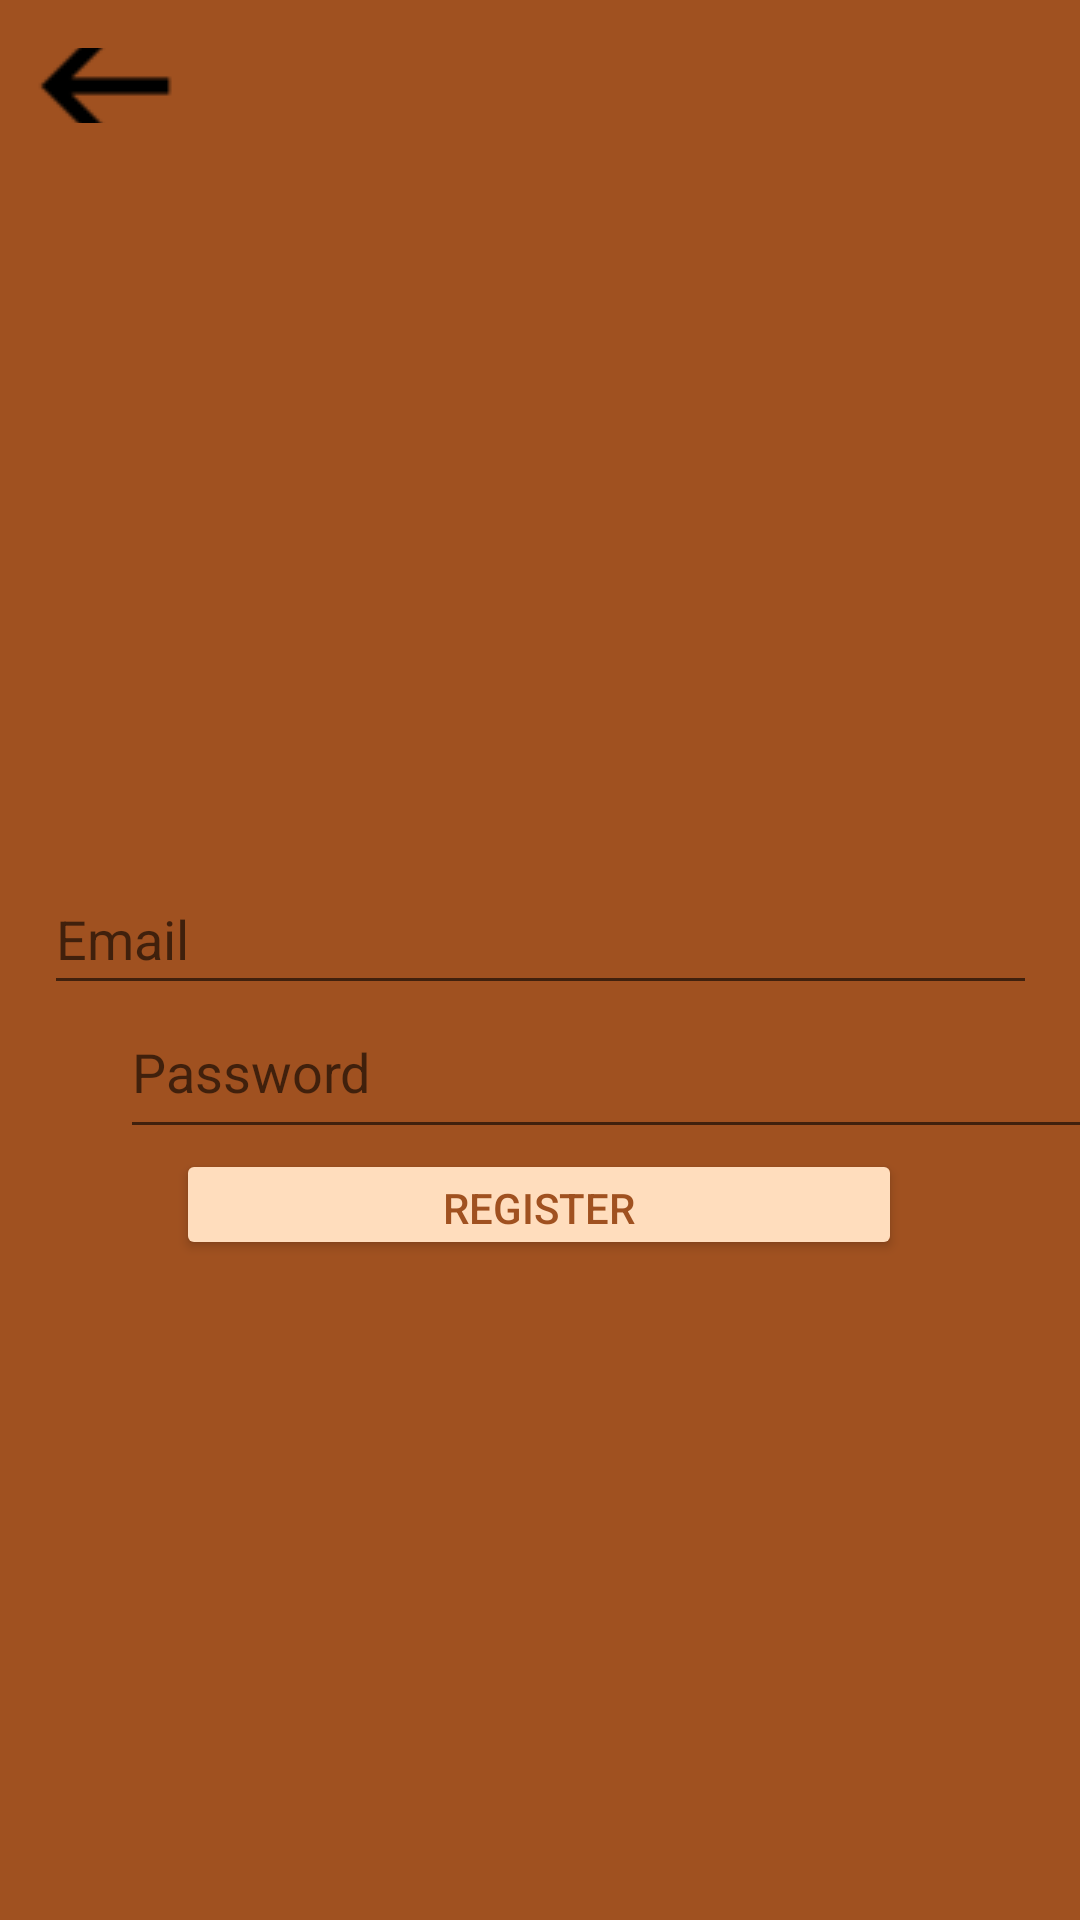

Locate icon controls on the screen. Image size 1080x1920, boxes as (x1, y1, x2, y2).
back: (41, 48, 171, 123)
